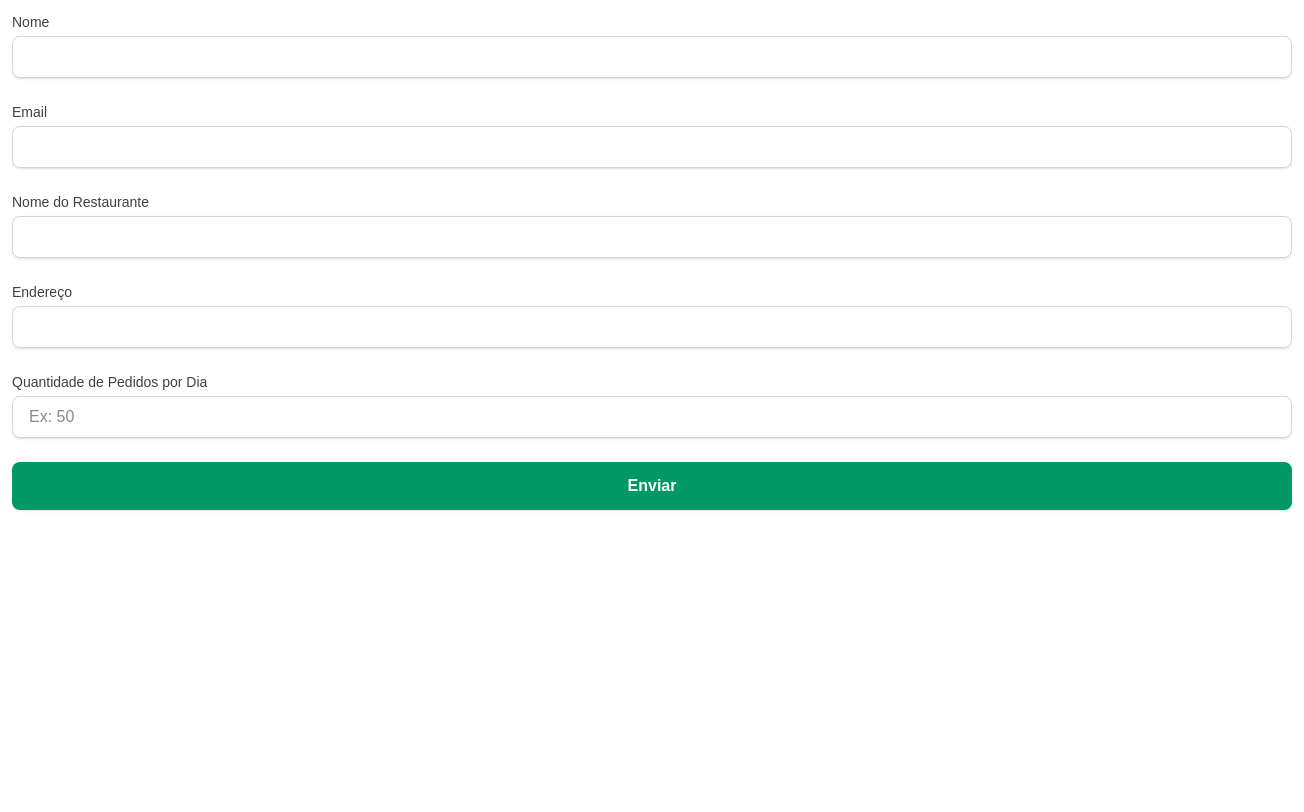
Test: ContactForm › shows error when API returns error
The image size is (1304, 812).
In the field labelled "Nome": (652, 57) [12,36,1292,78], type "João Silva"
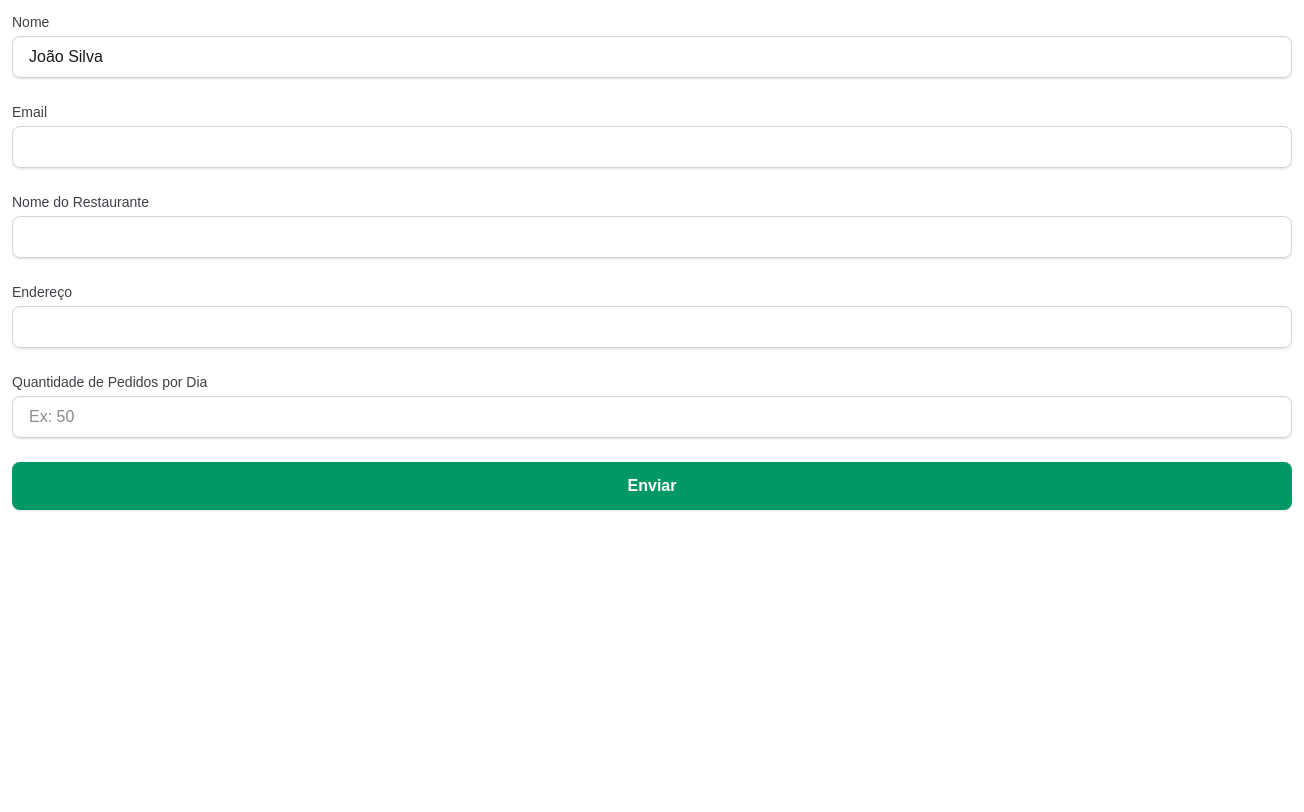
In the field labelled "Email": (652, 147) [12,126,1292,168], type "joao@email.com"
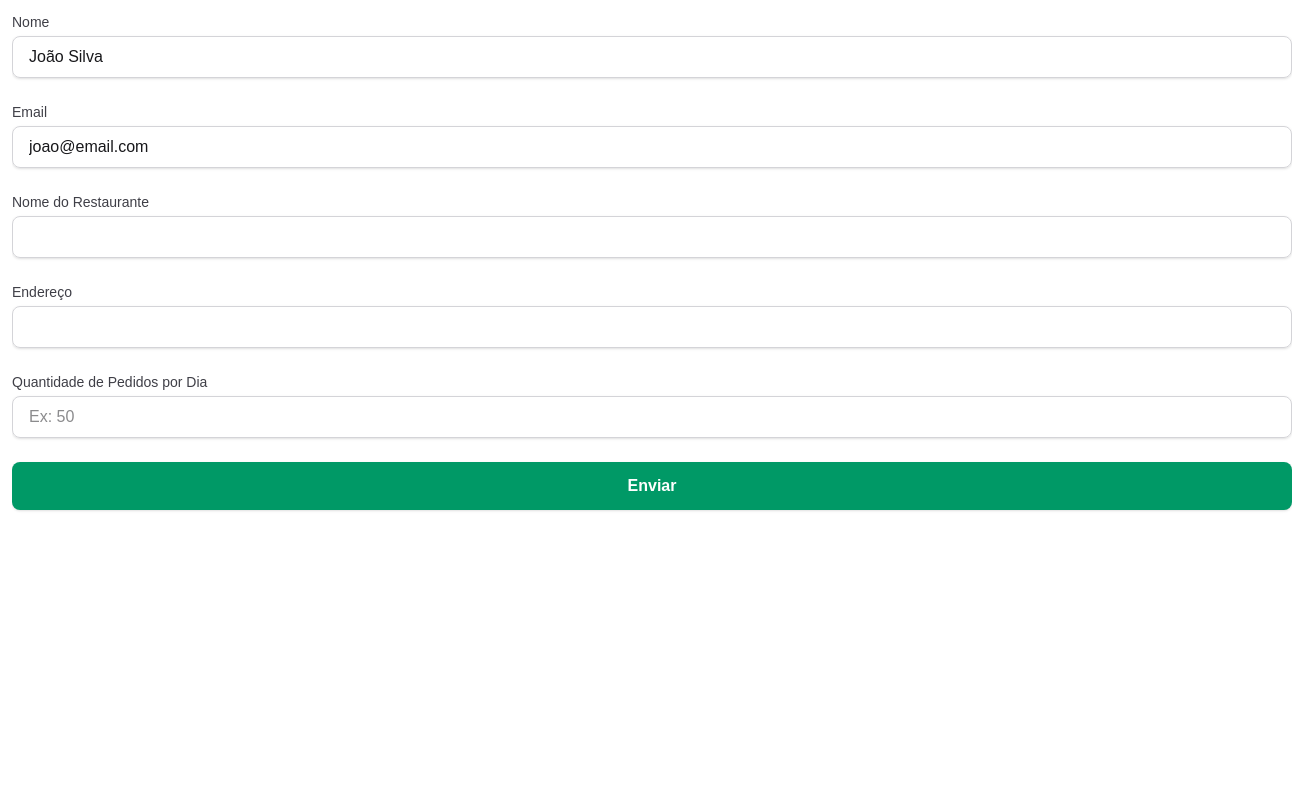
In the field labelled "Nome do Restaurante": (652, 237) [12,216,1292,258], type "Pizzaria do João"
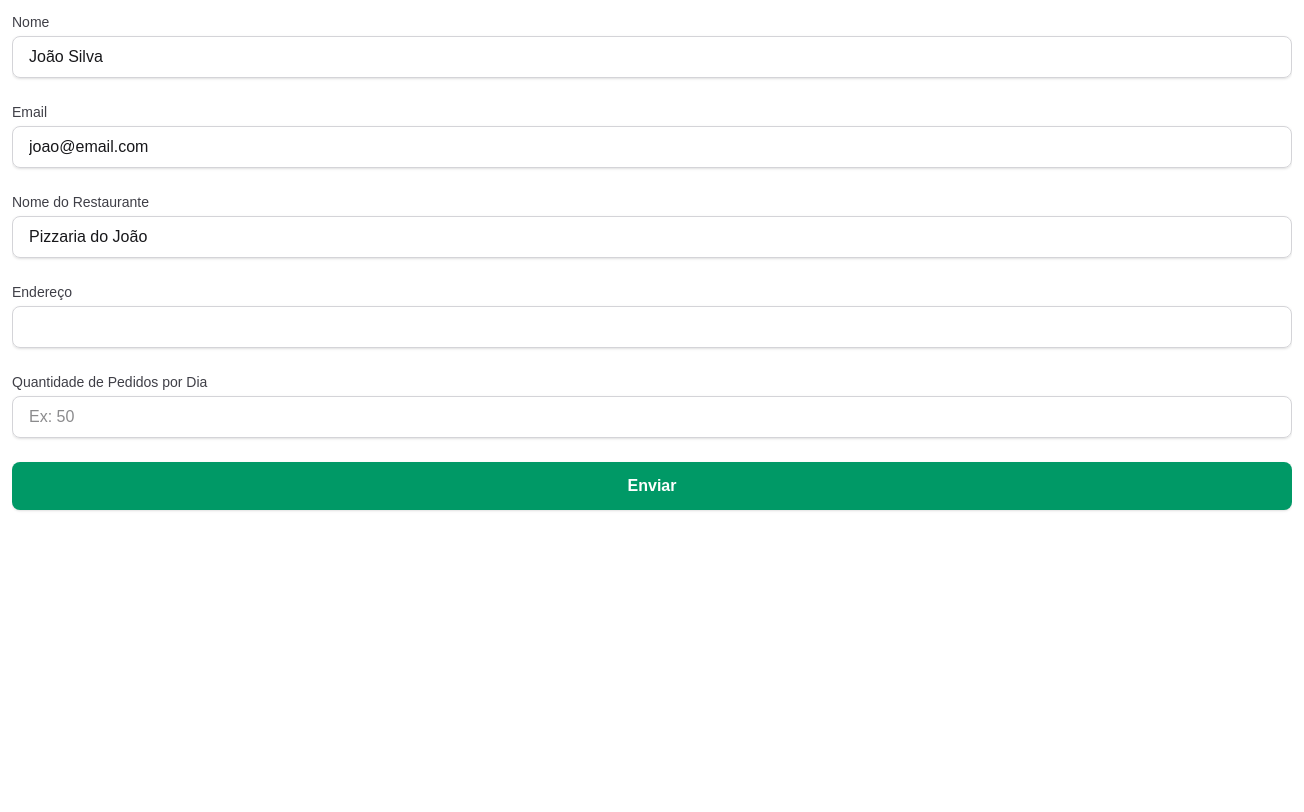
In the field labelled "Endereço": (652, 327) [12,306,1292,348], type "Rua A, 123"
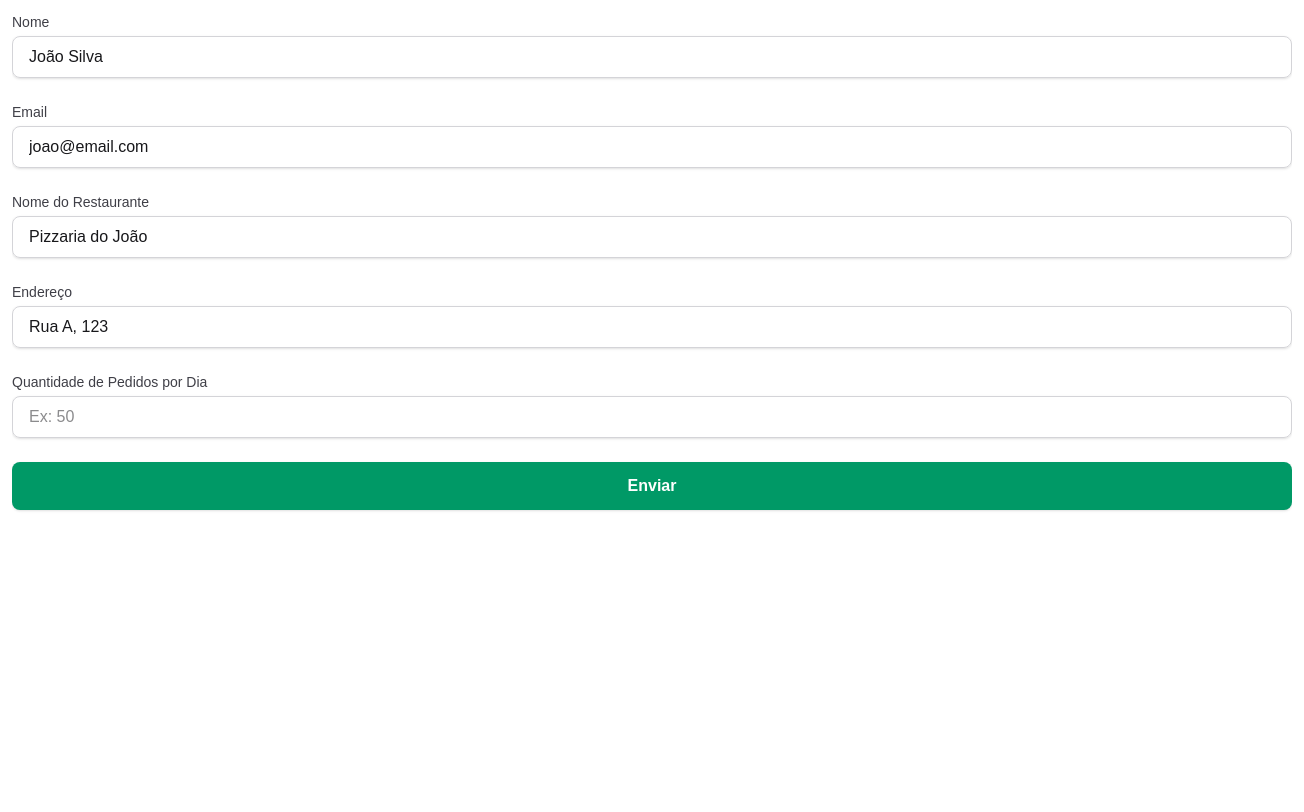
In the field labelled "Quantidade de Pedidos por Dia": (652, 417) [12,396,1292,438], type "50"
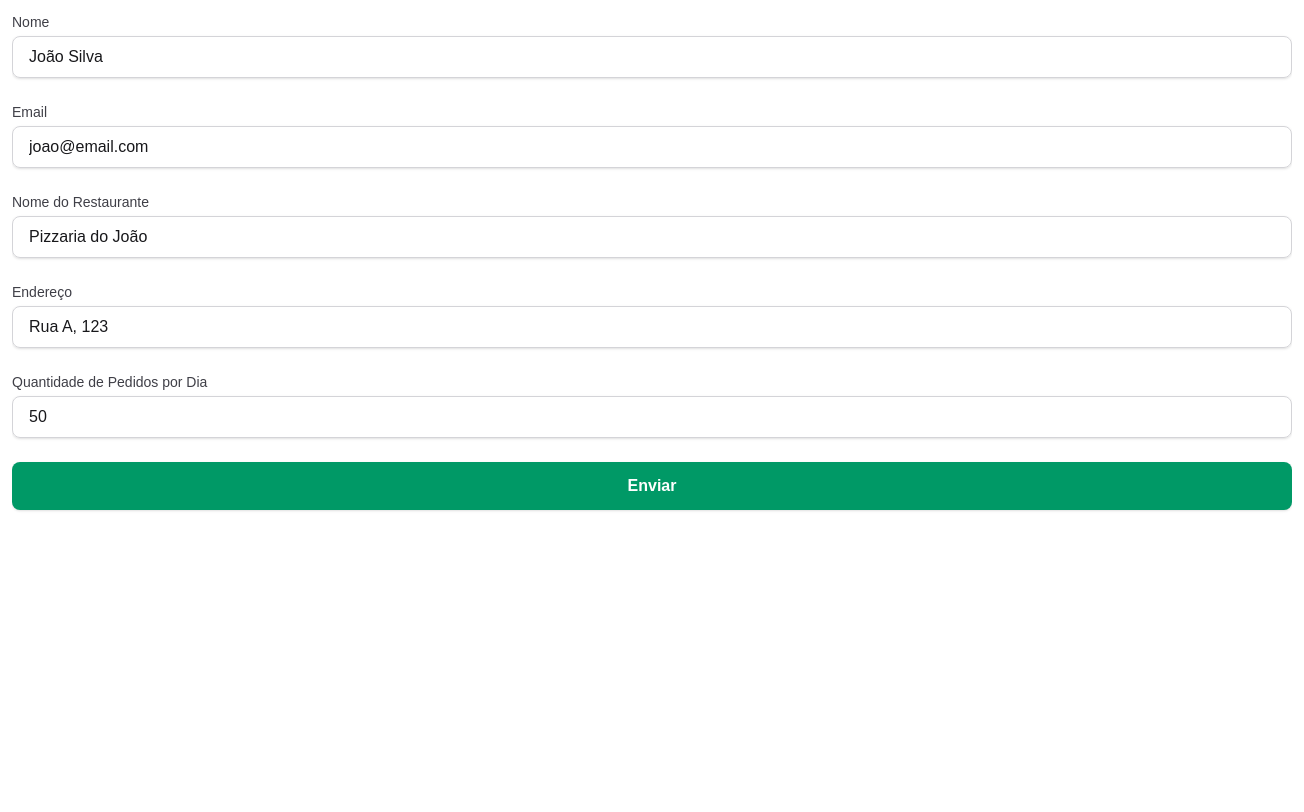
Click the button "Enviar": click(652, 486) [12,462,1292,510]
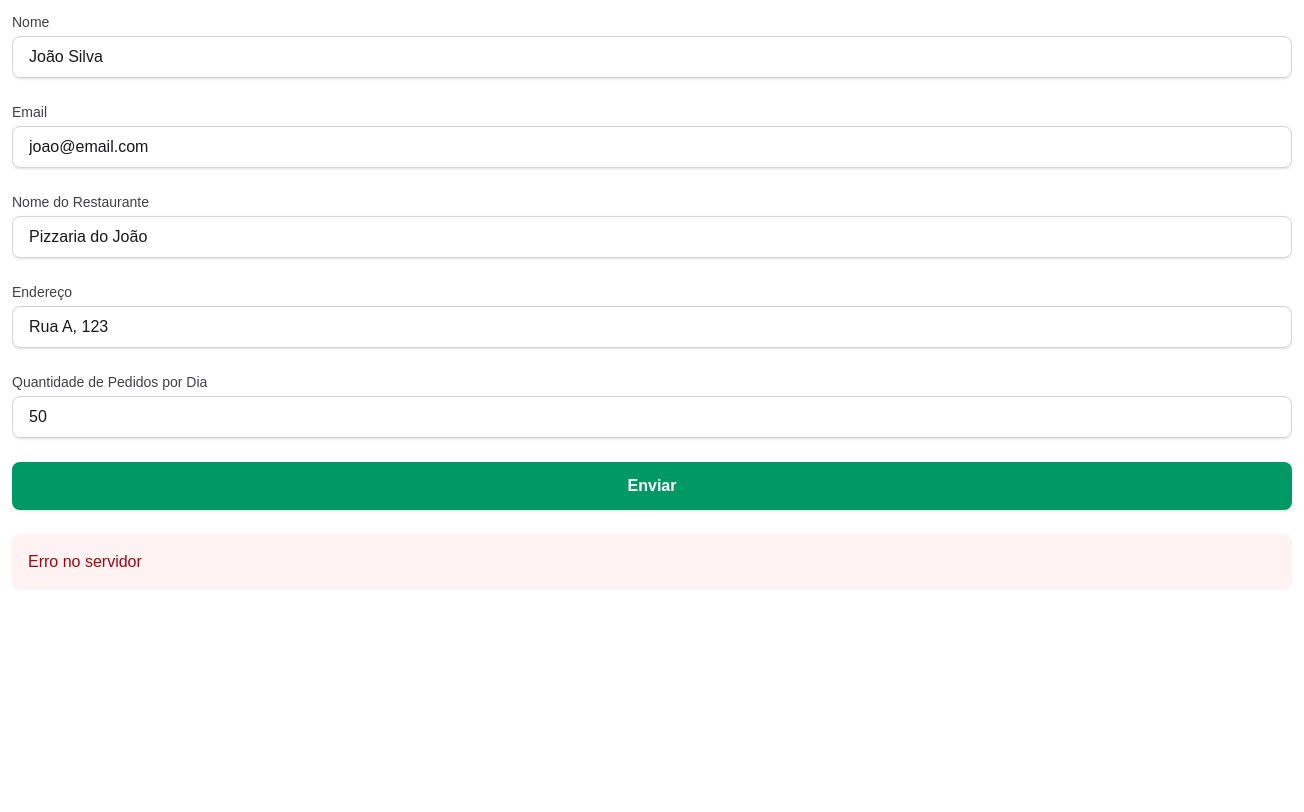
Check: the text "Erro no servidor" is shown, box [12,534,1292,590]
